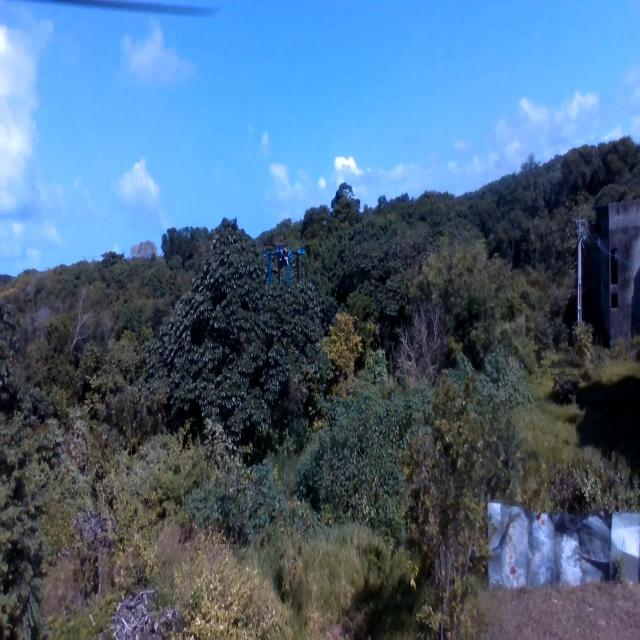-uav-: (250, 224, 314, 303)
